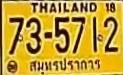1: (92, 16, 96, 52)
2: (103, 16, 117, 52)
3: (26, 17, 40, 53)
5: (54, 16, 69, 52)
7: (8, 17, 23, 54), (71, 16, 85, 53)
SPK: (29, 56, 102, 75)
